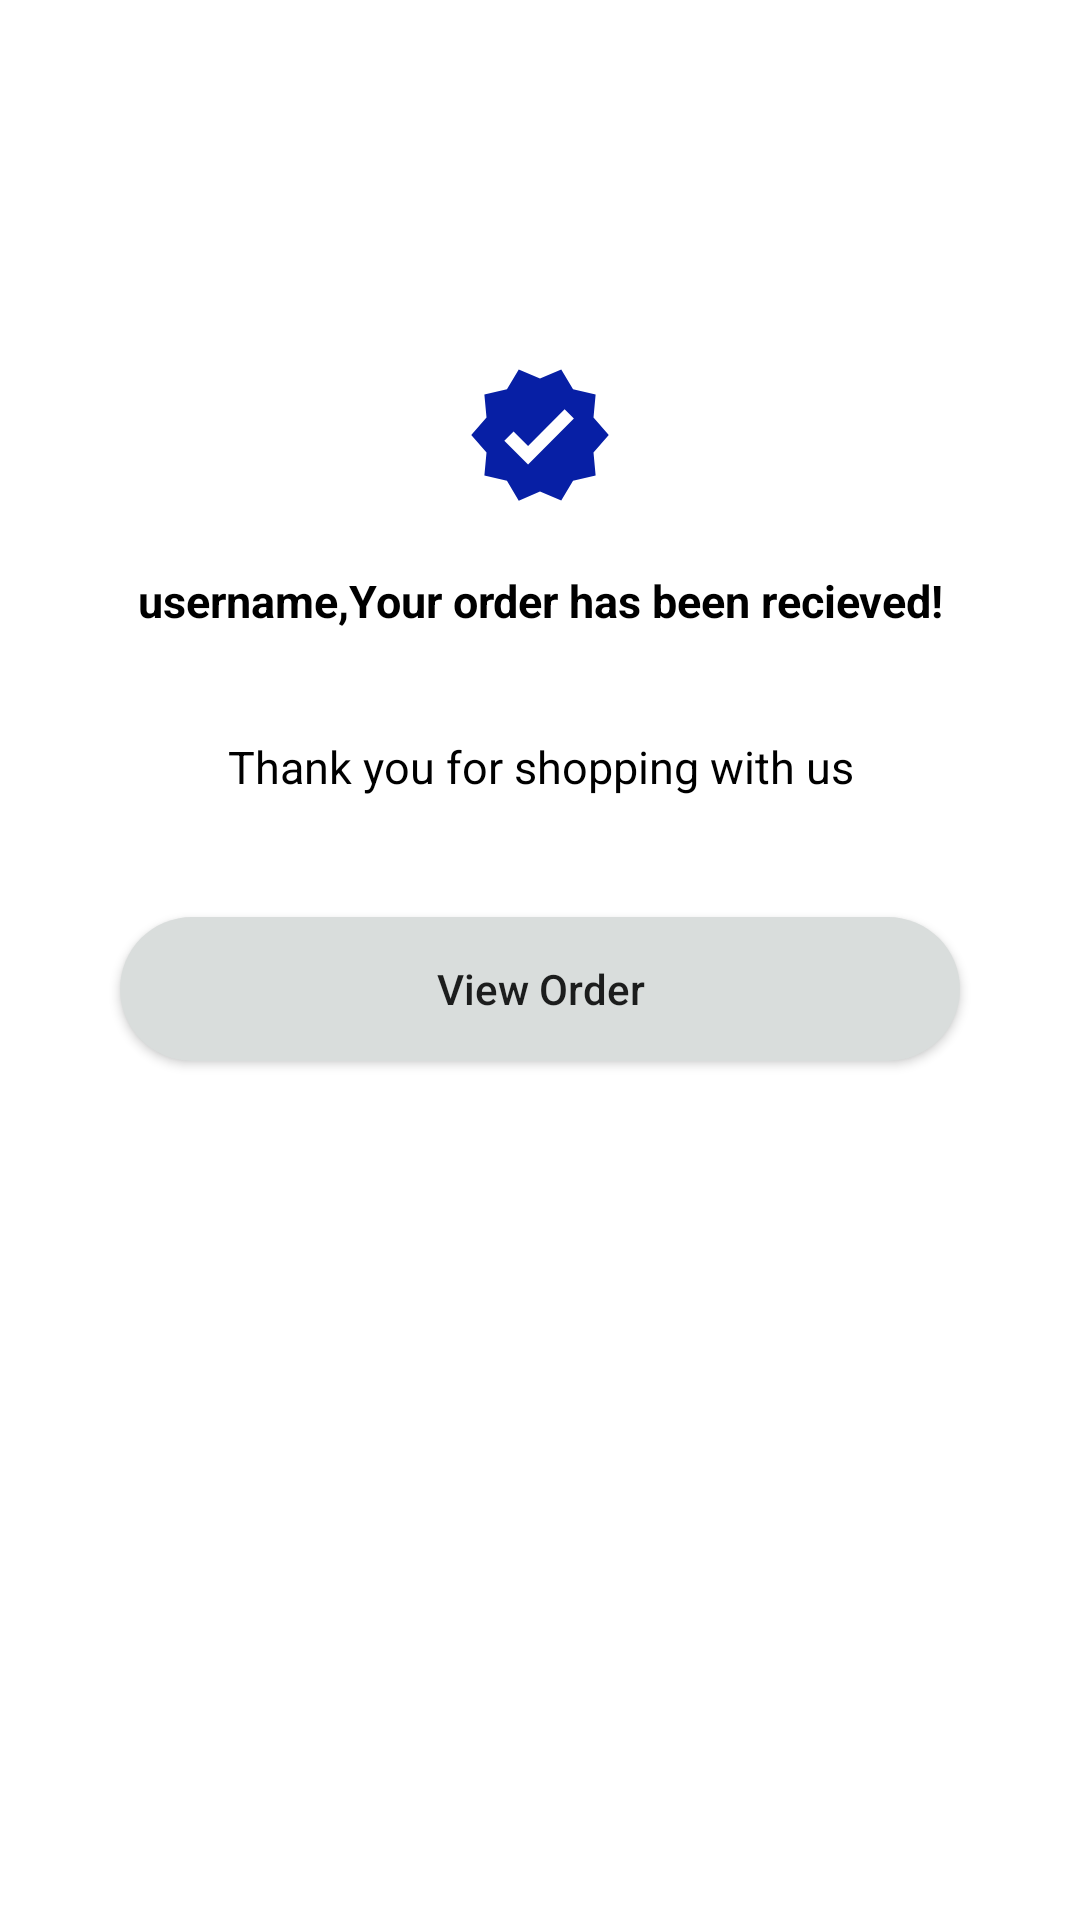

Icon bounding boxes for this 1080 × 1920 phone screenshot, format (x1, y1, x2, y2):
verified: (471, 369, 609, 501)
